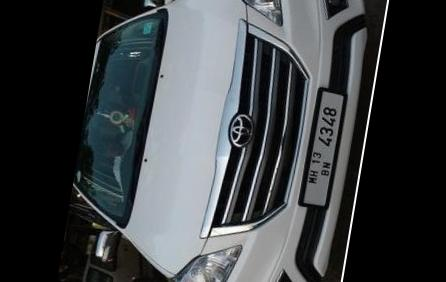plate: (285, 71, 354, 219)
